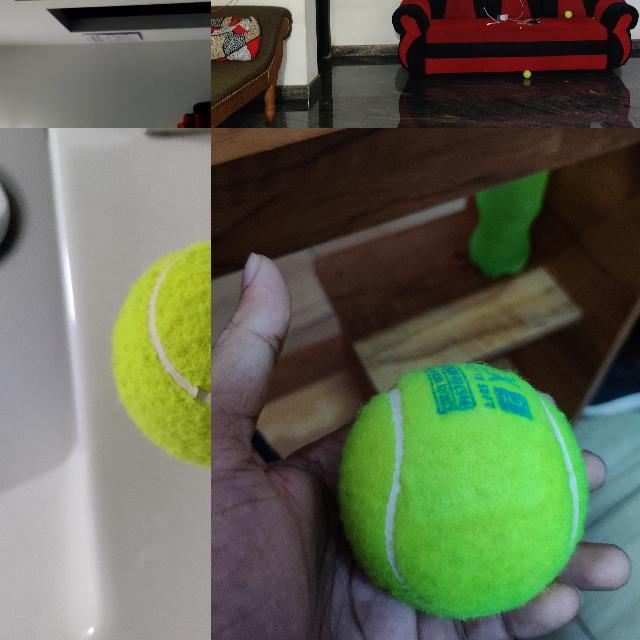tennis-ball: (340, 364, 584, 616), (106, 237, 210, 472), (564, 10, 572, 18), (523, 70, 531, 78)
